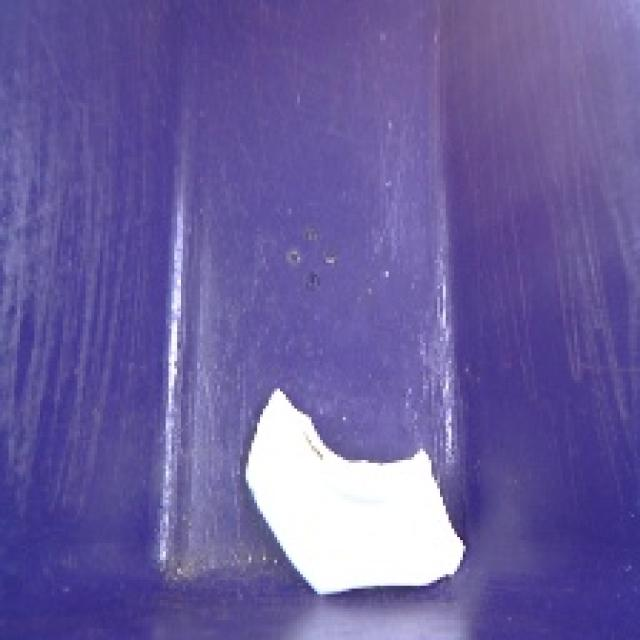china: (228, 377, 480, 617)
